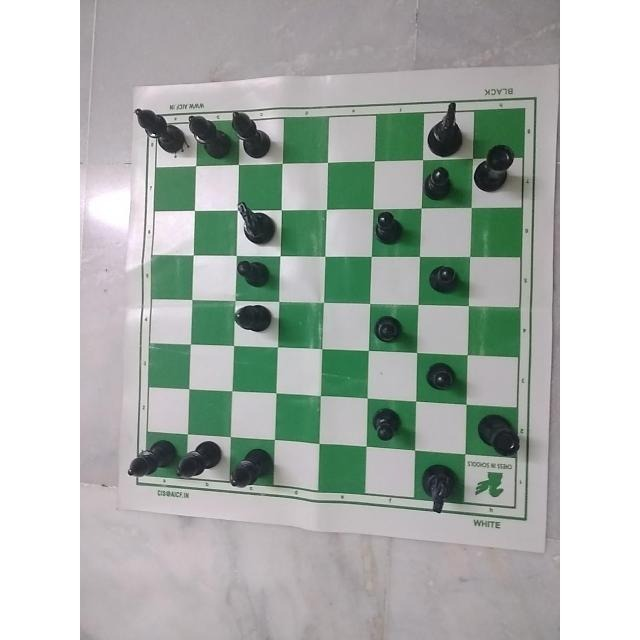black-bishop: (230, 104, 282, 159), (130, 104, 182, 159), (123, 436, 174, 488), (187, 105, 229, 165), (224, 445, 274, 495), (176, 436, 223, 488), (235, 295, 275, 342)
black-knight: (424, 93, 468, 157), (226, 196, 272, 249), (417, 464, 461, 512)
black-pawn: (369, 206, 416, 256), (419, 354, 463, 402), (368, 400, 406, 455), (365, 314, 407, 356), (425, 256, 467, 295), (233, 255, 276, 291), (418, 165, 458, 199)
black-rook: (472, 139, 524, 200), (469, 407, 525, 457)
